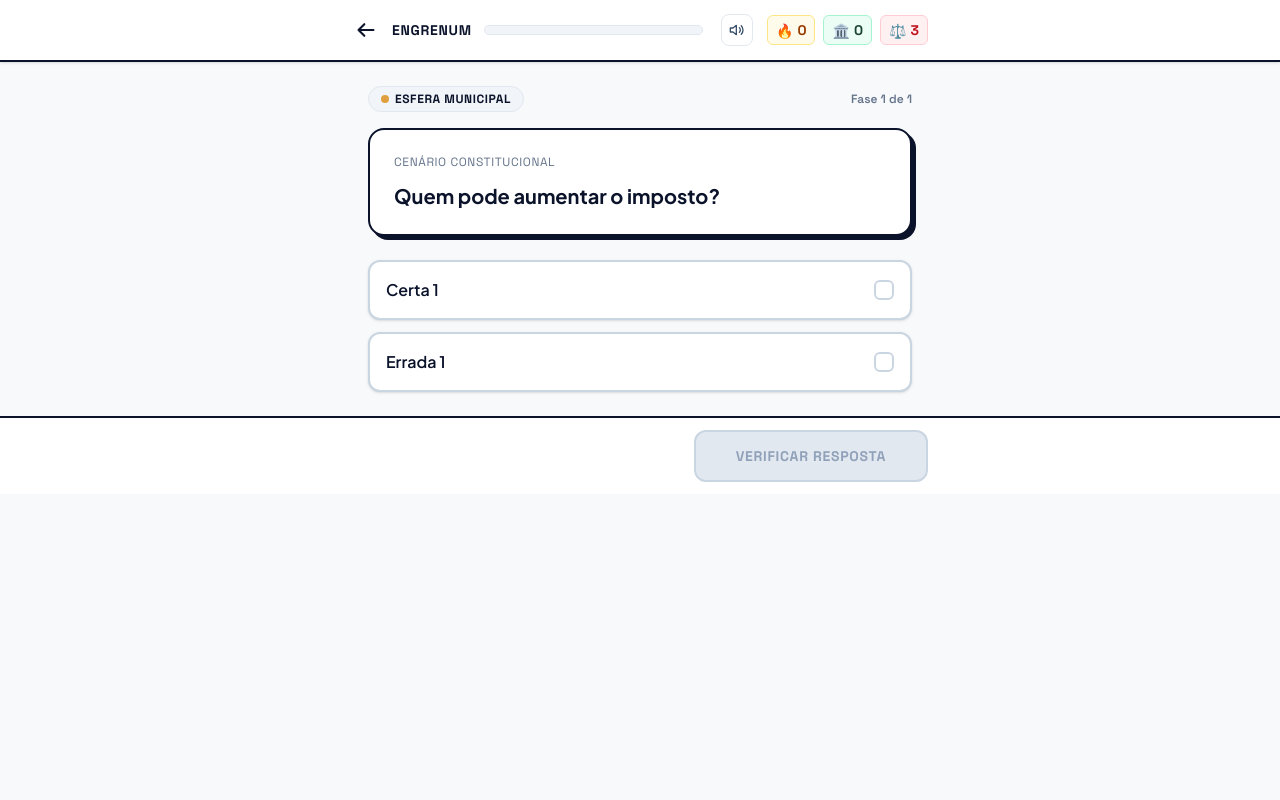
Test: EngrenumQuiz › links glossary terms in the scenario only after verifying, and in the explanation
Click the button "Certa 1" at [412, 289], box [368,260,912,320]
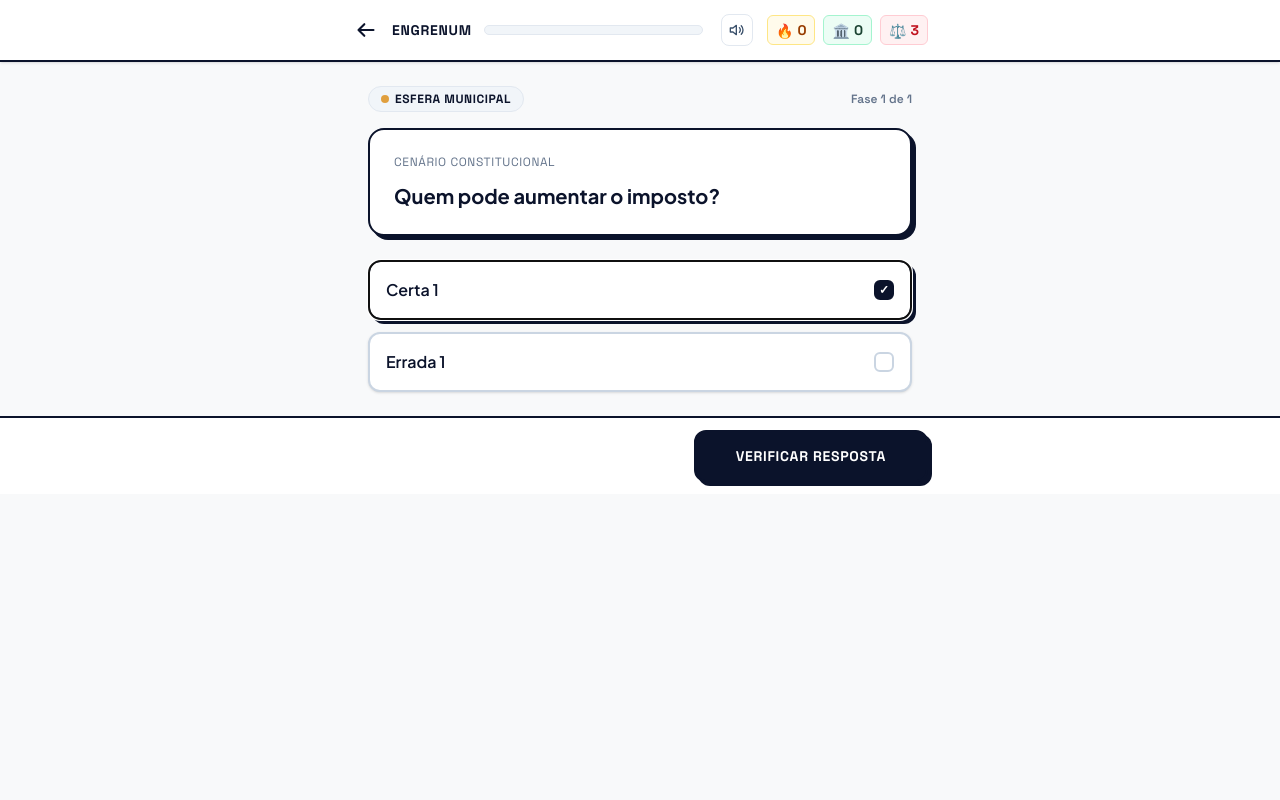
Click the button "Verificar Resposta" at [811, 456], box [694,430,928,482]
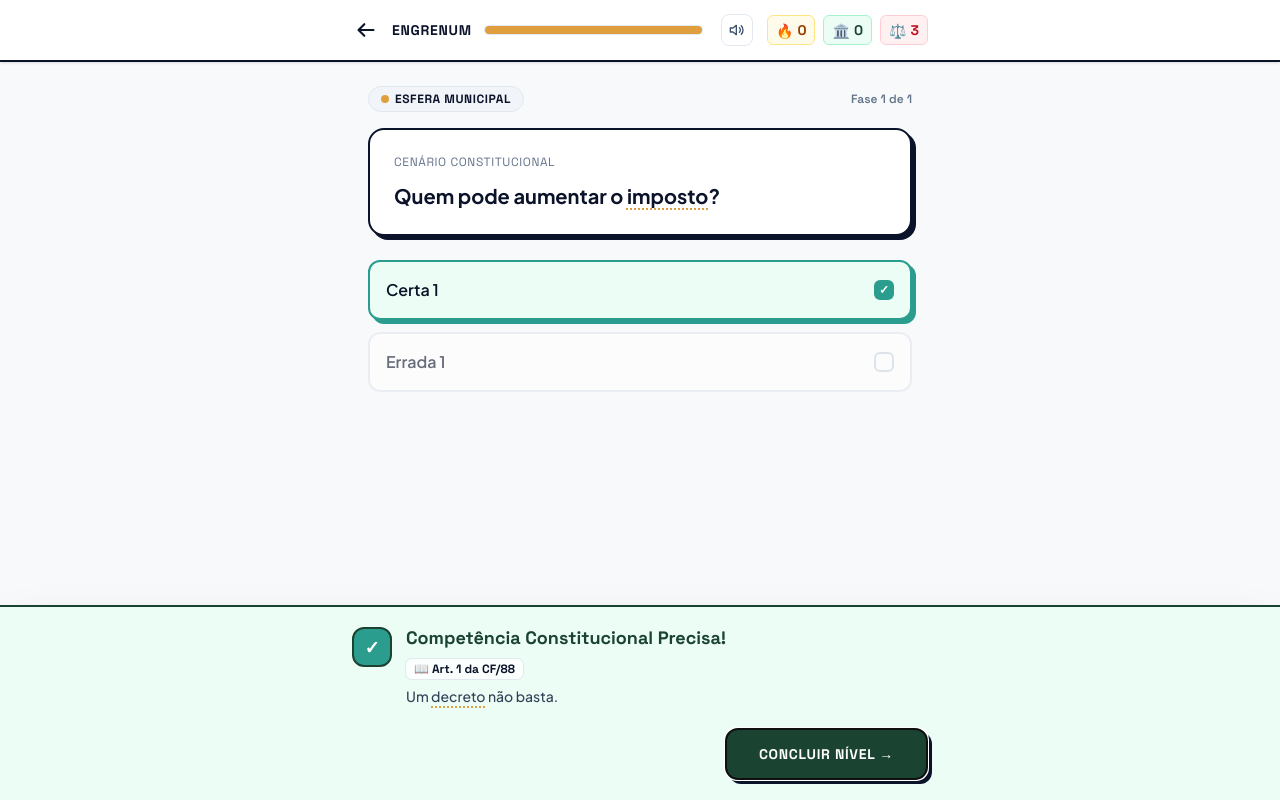
Expected: the heading "Quem pode aumentar o imposto ?" is shown, [394,182,720,210]
Expected: the button "imposto" is shown, [627,182,708,210]
Click the button "decreto" at [458, 697], box [431,685,486,708]
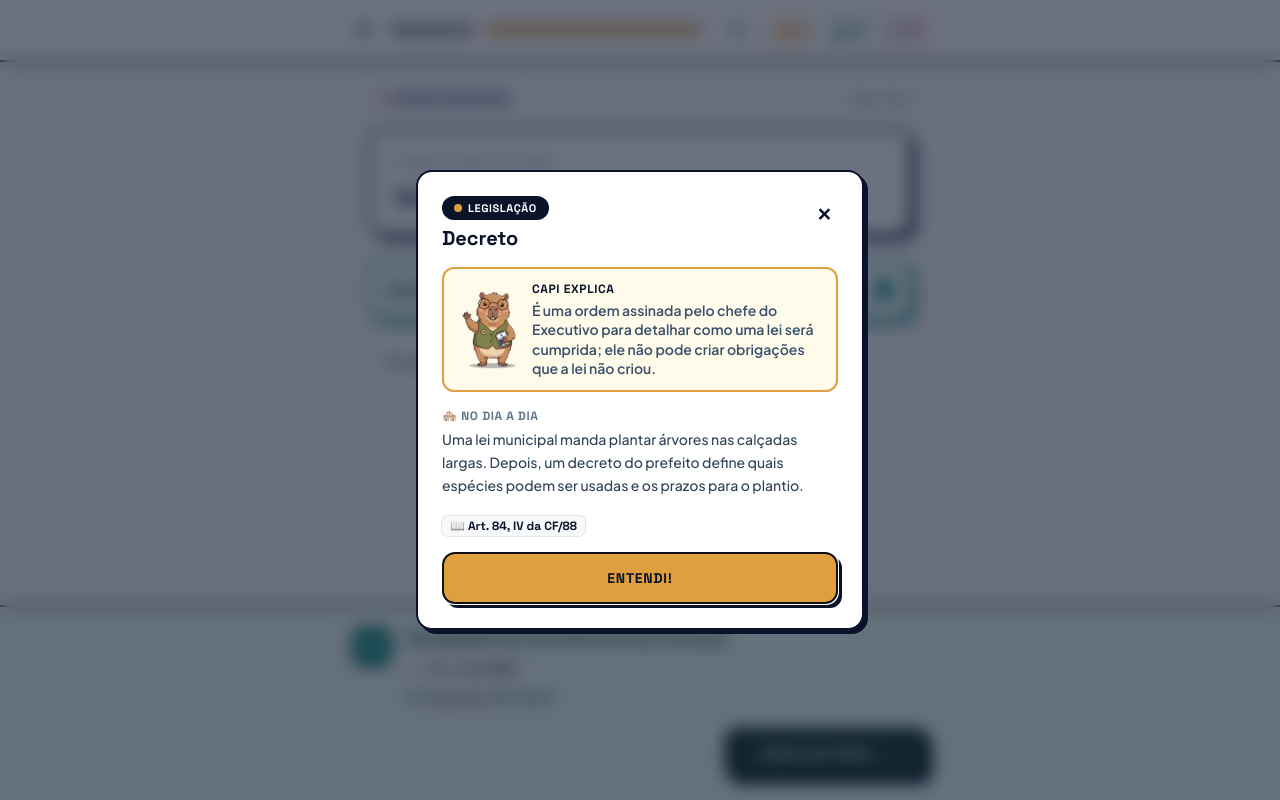
Now the dialog "Decreto" shows "Capi explica", box [532,281,614,297]
